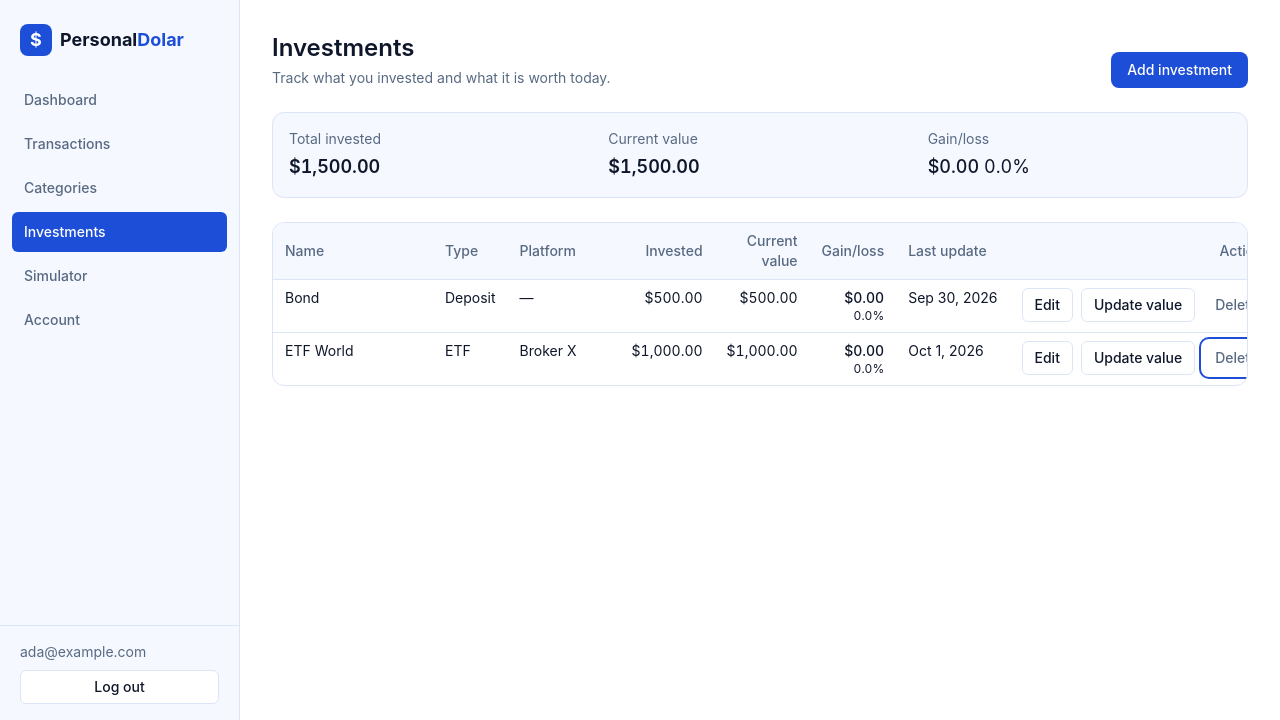
Test: Delete investment › deletes the right row, refetches, updates the totals and shows "Investment deleted."
Expected: the table named "Investments" is shown, [273,223,1248,385]
Expected: the 2nd text "$1,500.00" is shown, [608,156,700,177]
What coordinates should you click on to do the following:
click the button with aria-label "Delete ETF World"
I would click on:
 (1237, 358)
Its box is [1203,341,1270,375].
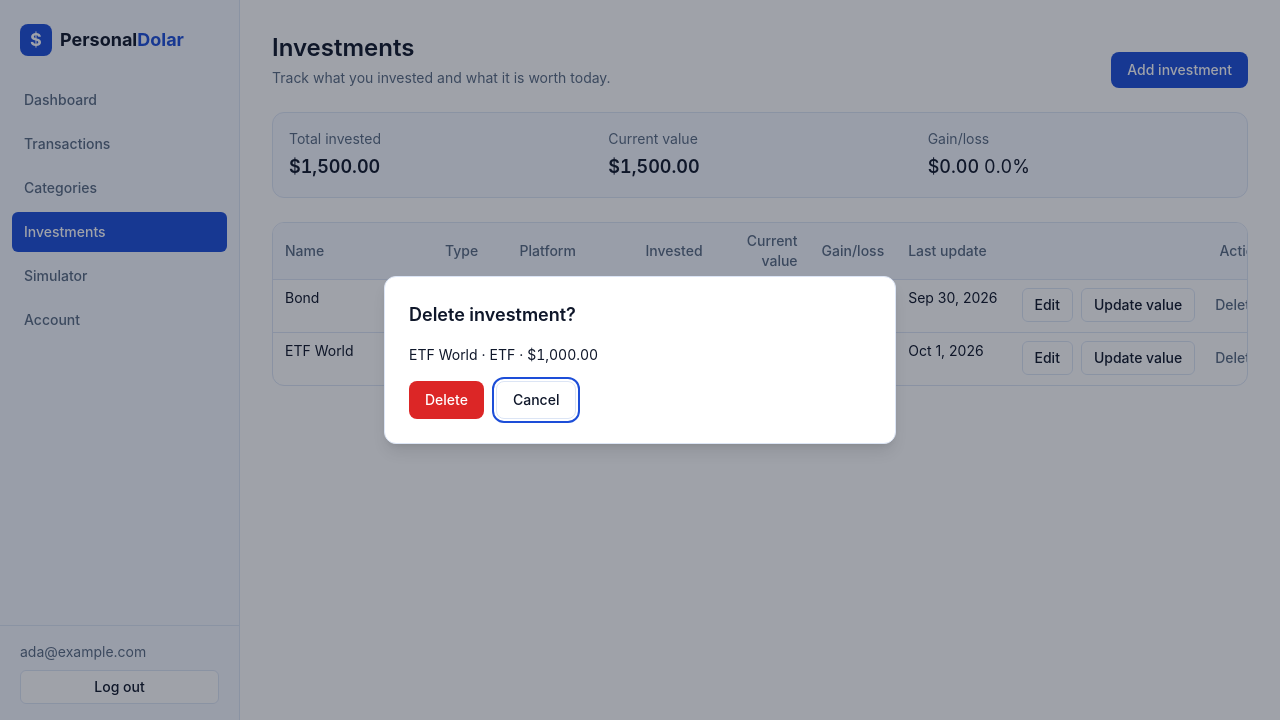
What coordinates should you click on to do the following:
click the button "Delete"
I would click on:
 (446, 400)
Its box is [409,381,484,419].
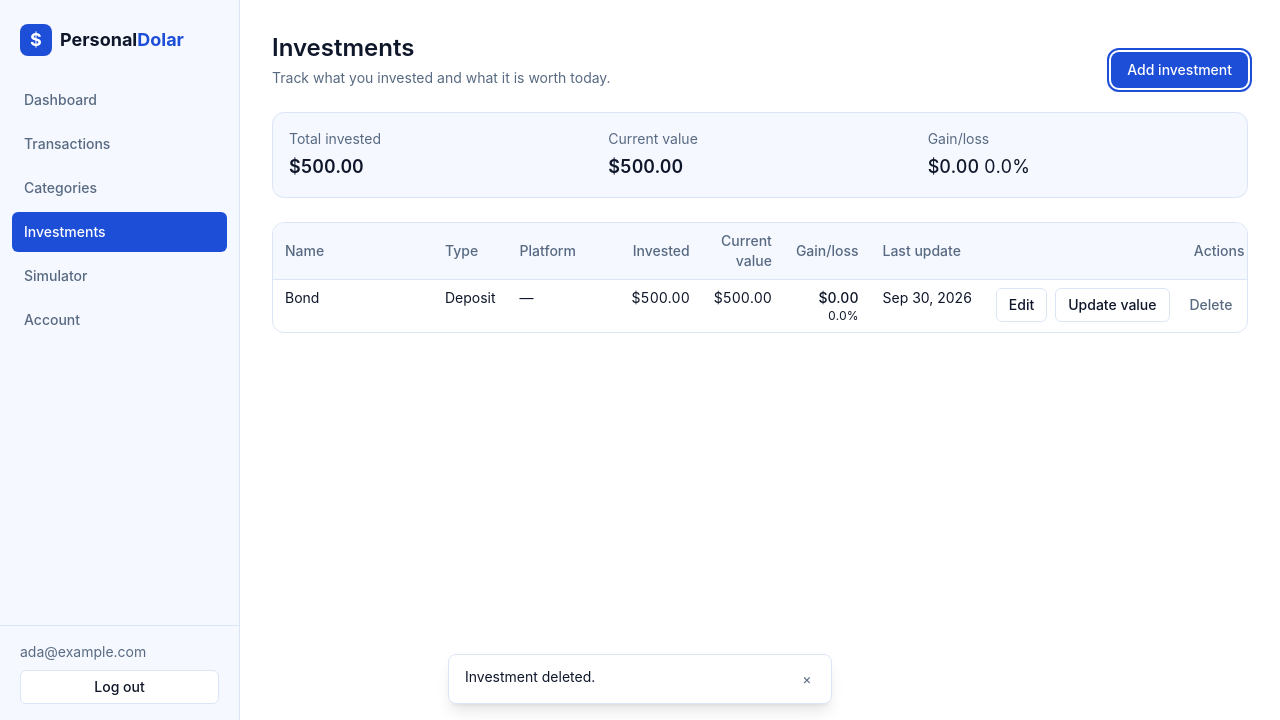
Expected: the dialog is gone
Expected: the table "Delete ETF World" is gone
Expected: the 2nd text "$500.00" is shown, [608,156,683,177]
